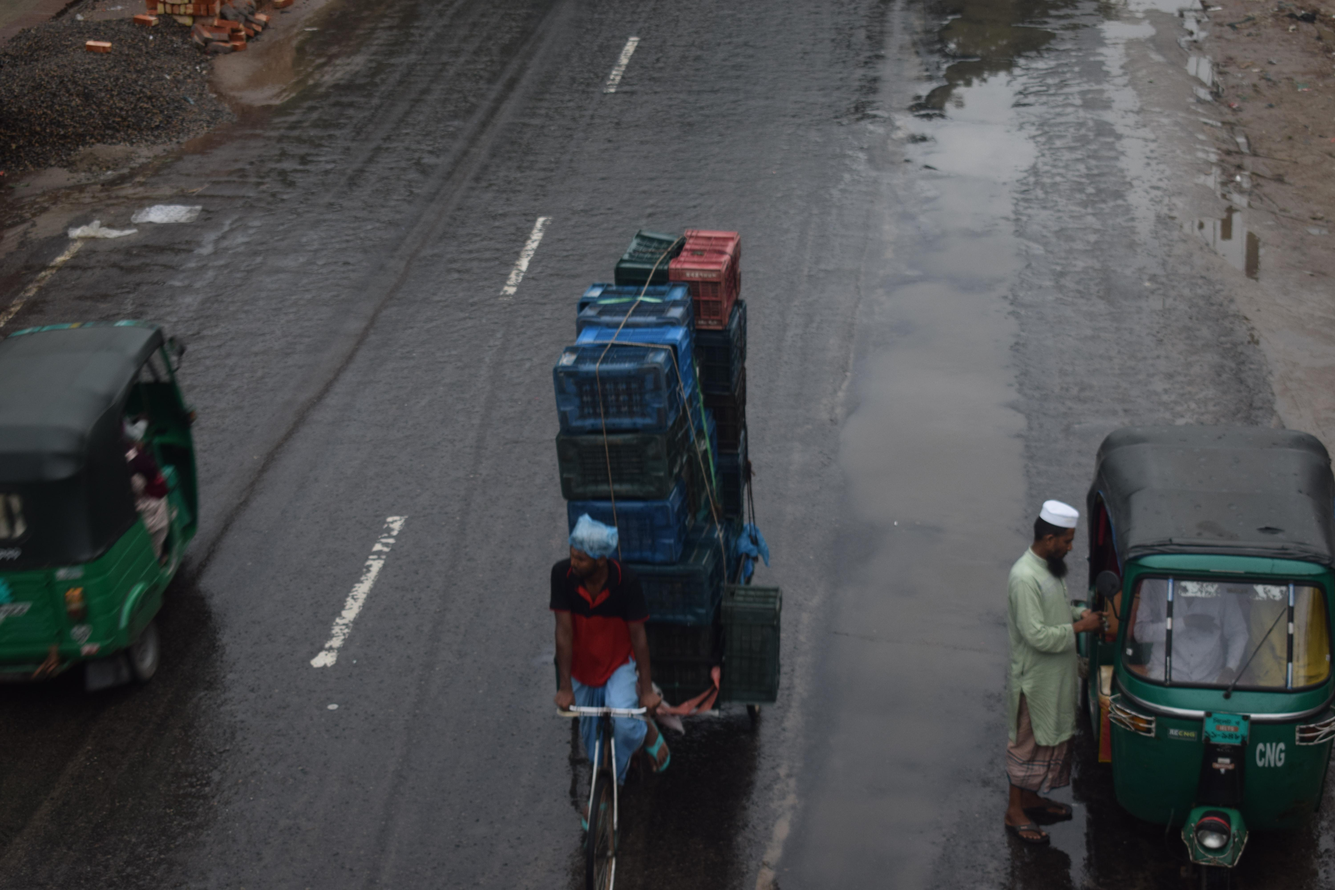Car: (452, 177, 821, 890)
